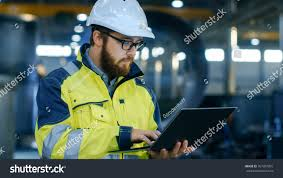Person_wearing_helmet: (79, 0, 156, 51)
